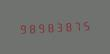eight: (26, 21, 34, 35), (44, 20, 52, 34), (62, 19, 70, 33)
five: (80, 18, 88, 32)
nine: (17, 21, 25, 35), (35, 21, 43, 34)
seven: (71, 19, 79, 32)
three: (53, 20, 61, 33)
